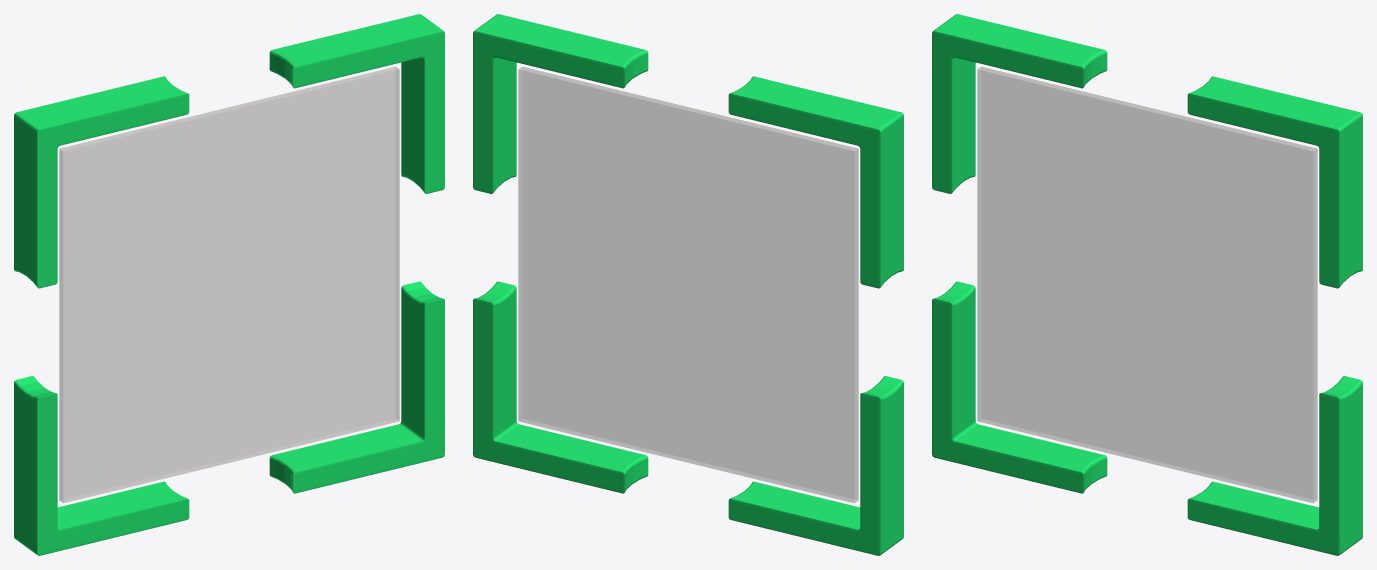
The model's file is mirrorGreen.gltf.
3 views of the same model, side by side, from view 1: azimuth 30°, elevation 25°; view 2: azimuth 150°, elevation 25°; view 3: azimuth 330°, elevation 25° (orthographic).
Parts seen in each view (by area): view 1: Cube.036, Cube.035; view 2: Cube.036, Cube.035; view 3: Cube.036, Cube.035.
Boxes of the visible parts, x1=… form: Cube.036: x1=59, y1=66, x2=399, y2=503; Cube.035: x1=14, y1=14, x2=444, y2=555; Cube.036: x1=518, y1=66, x2=858, y2=503; Cube.035: x1=473, y1=14, x2=903, y2=555; Cube.036: x1=977, y1=66, x2=1317, y2=503; Cube.035: x1=932, y1=14, x2=1362, y2=555.
Size of what is drawn, in the model's own units: 2 by 2 by 0.2.
